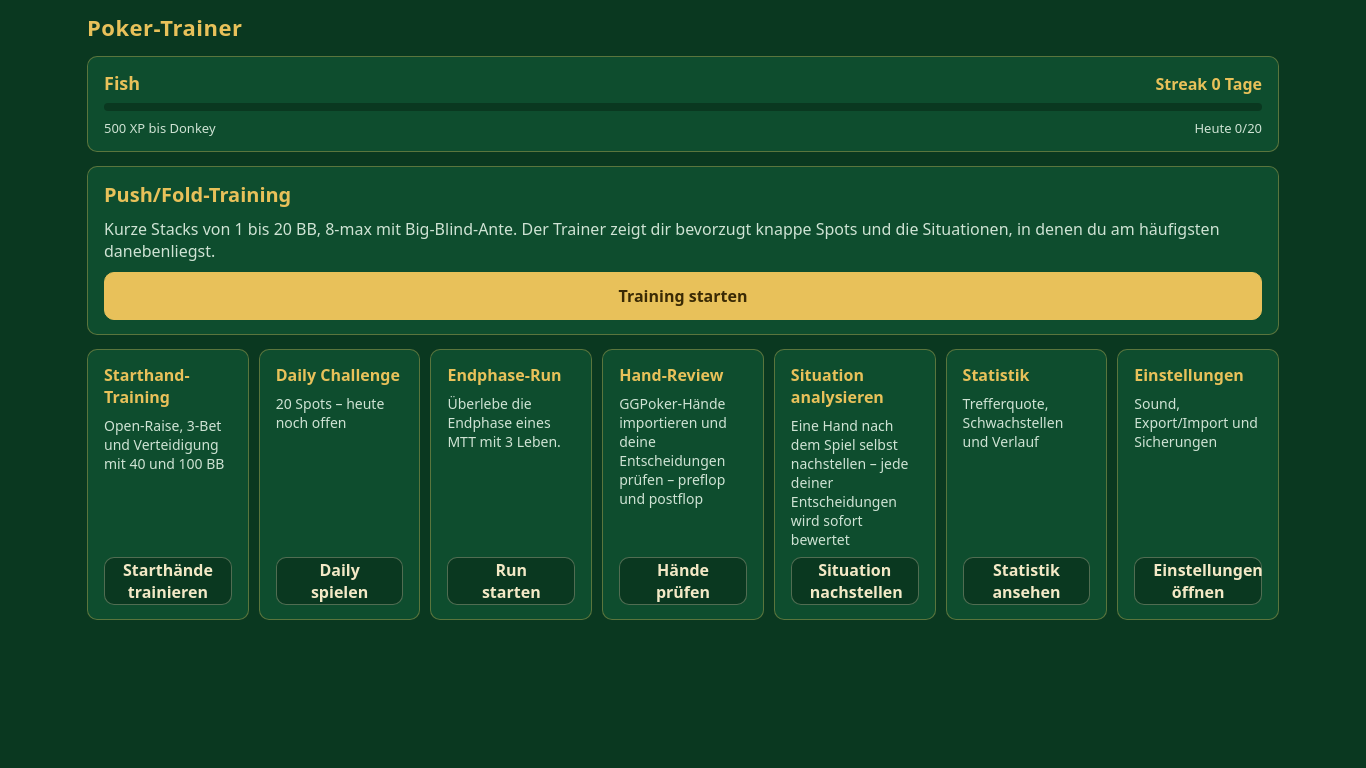
Scenario: App › plays with the keyboard
Step 1. Click the button "Training starten" → (683, 296), box x1=104 y1=272 x2=1262 y2=320
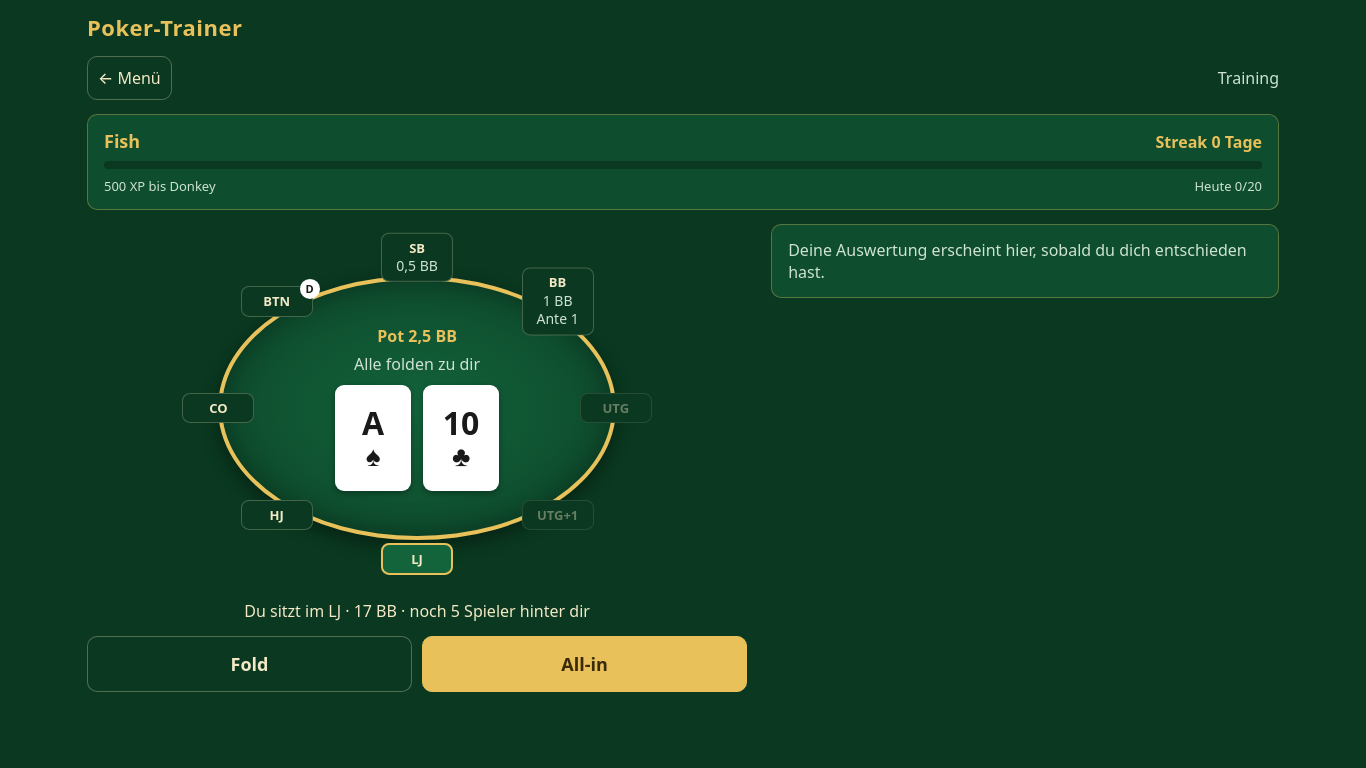
Step 2. Press a
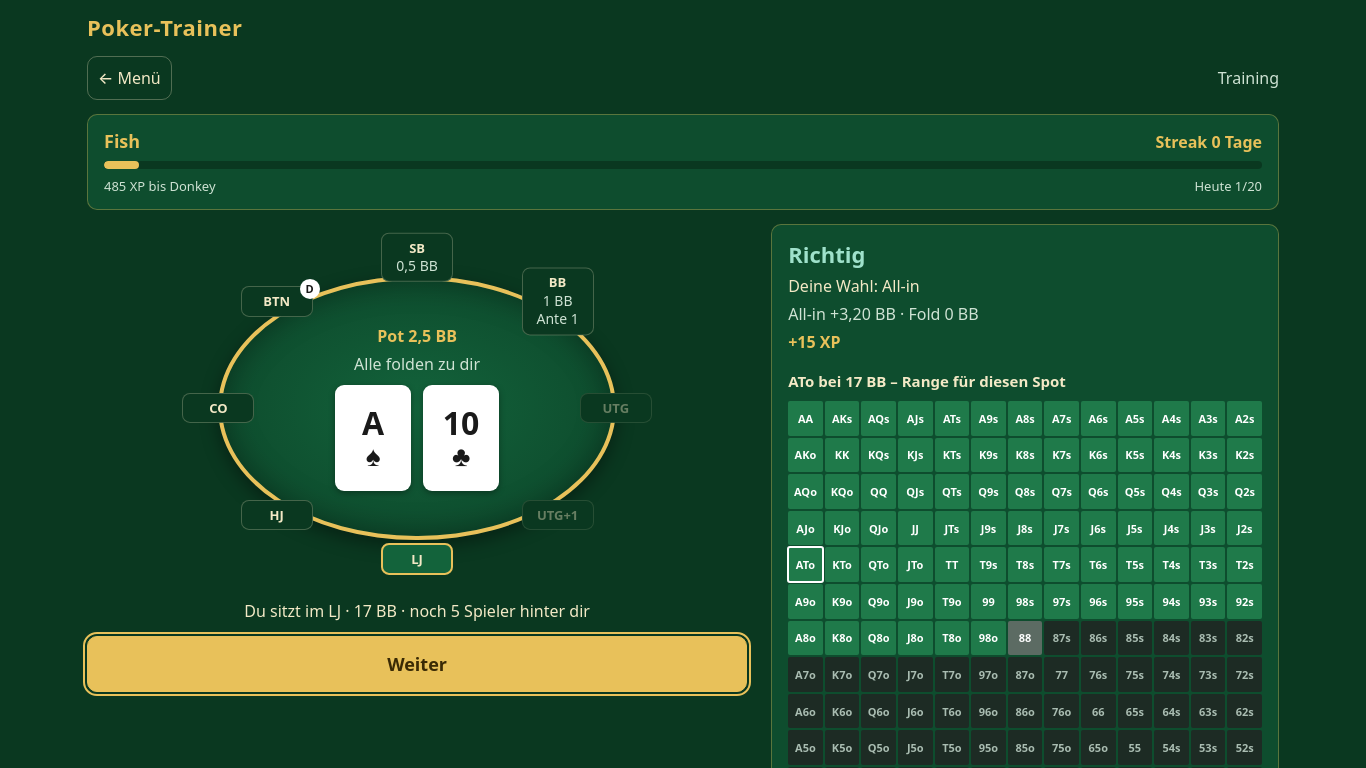
Now the heading "Richtig" is shown, box x1=788 y1=239 x2=865 y2=269
Step 3. Press Space
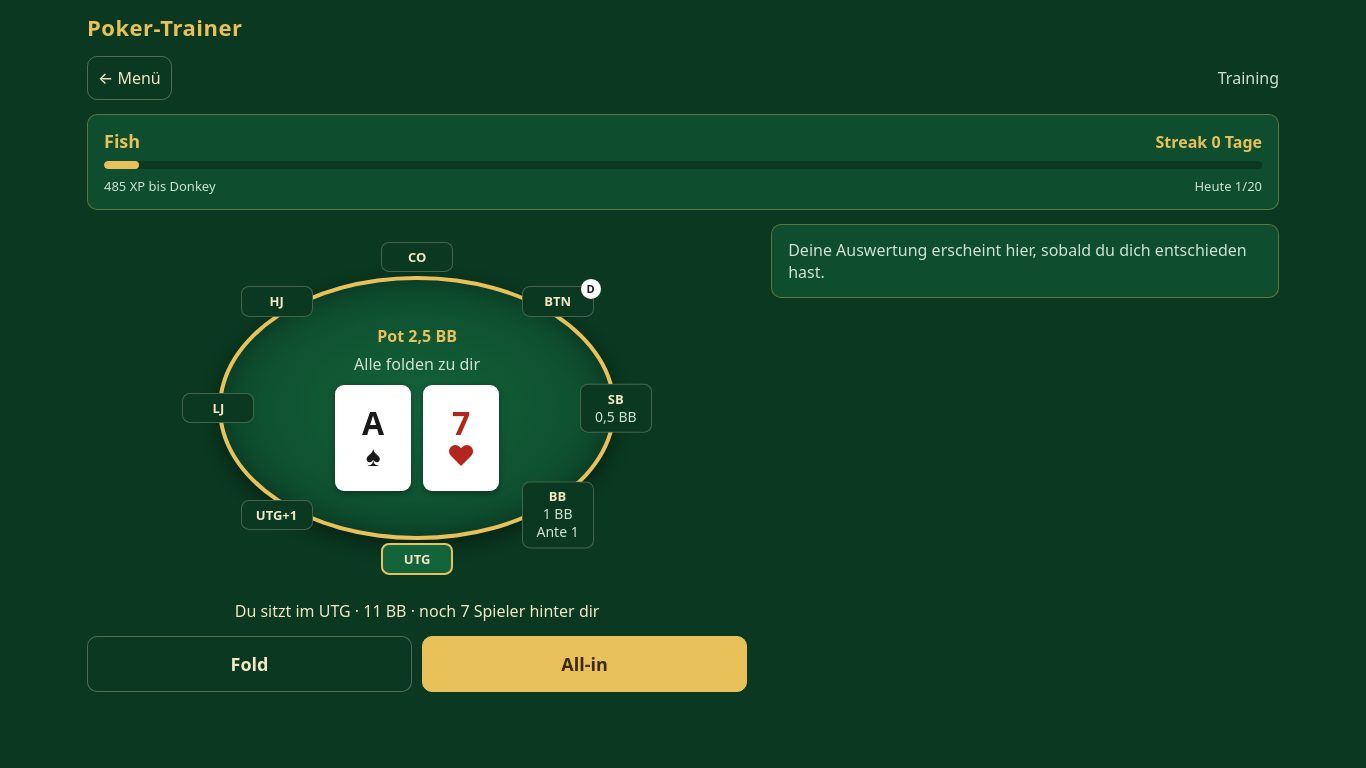
Now the heading "Richtig" is gone
